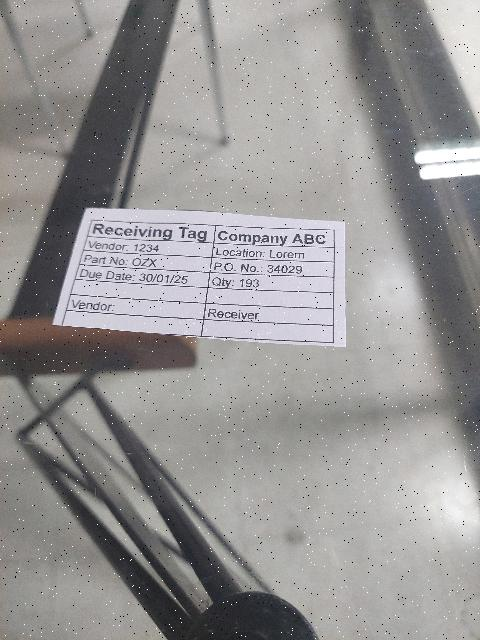PO no: (209, 257, 335, 279)
part no: (80, 250, 213, 274)
qty: (208, 271, 334, 293)
tags: (51, 208, 347, 348)
